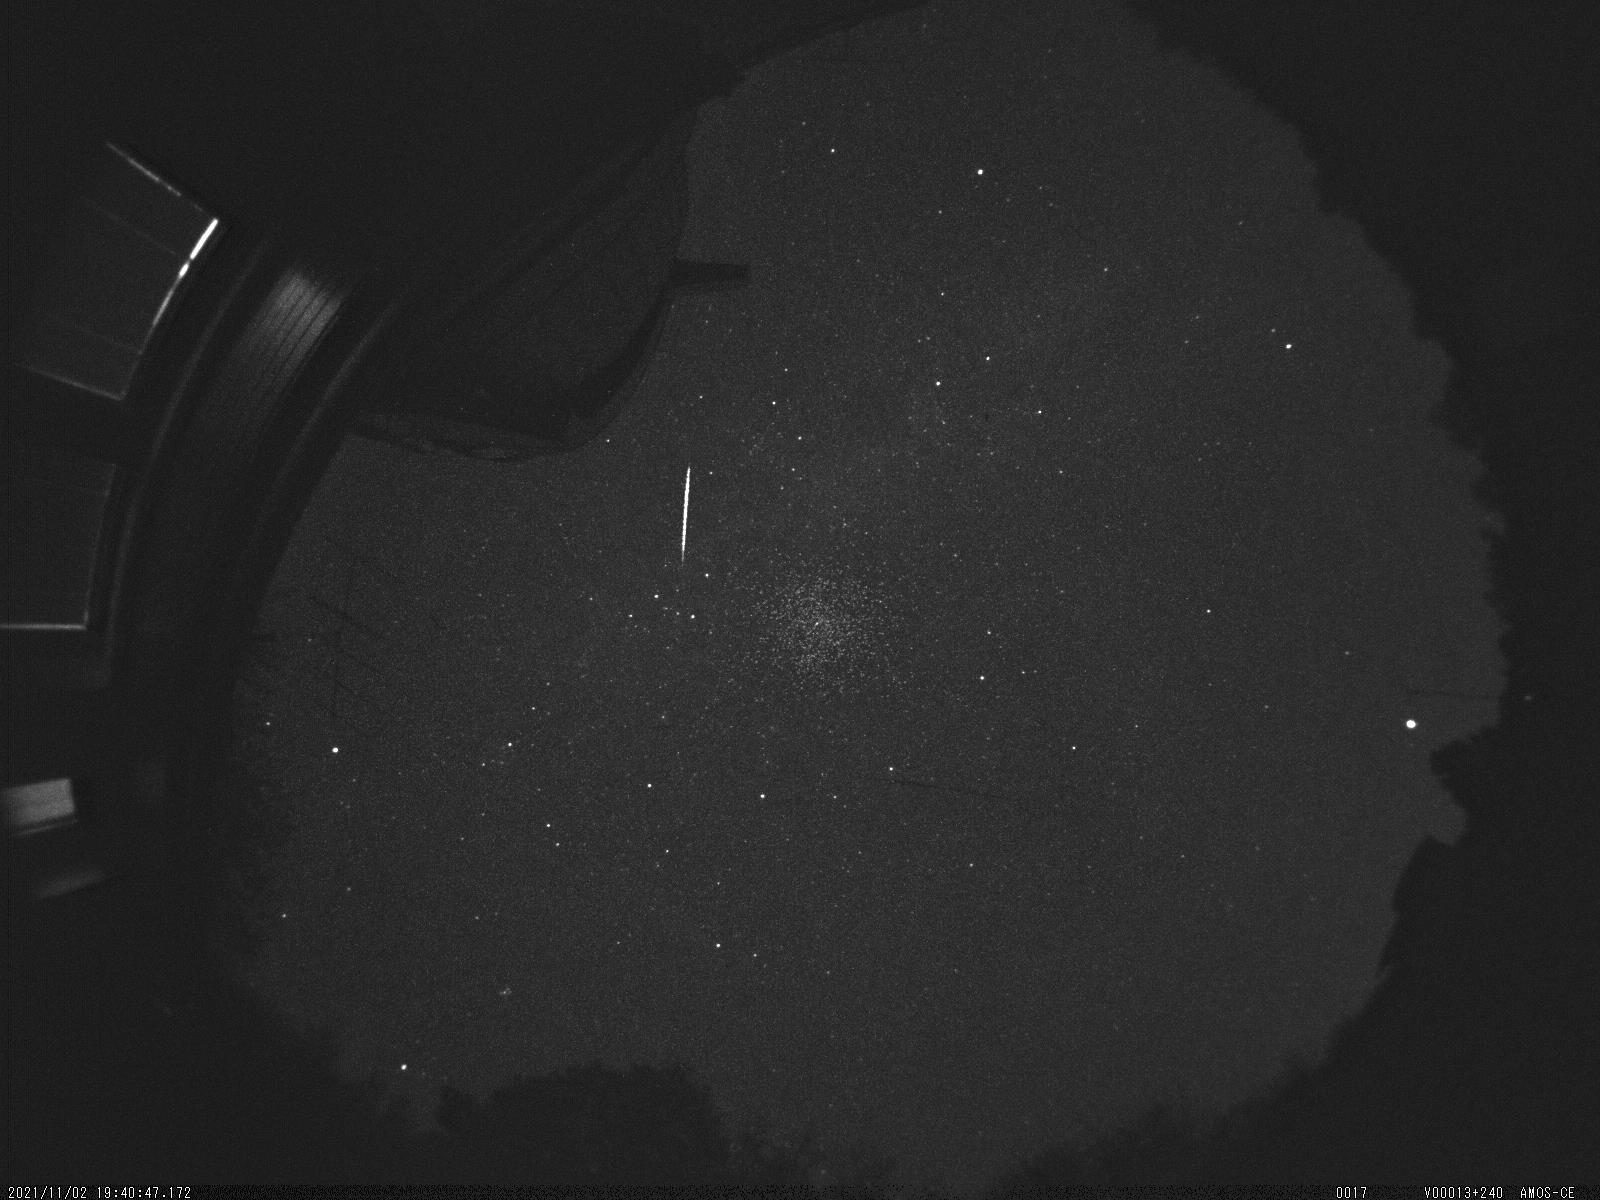Meteor: (672, 452, 697, 581)
